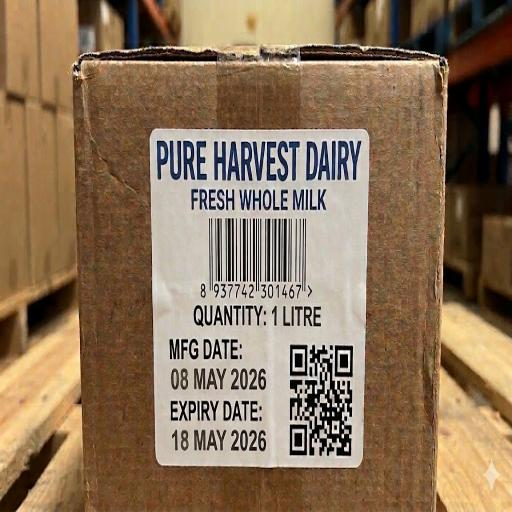barcoderotation: (195, 216, 314, 301)
expiry_daterotation: (167, 396, 269, 451)
labelrotation: (152, 134, 365, 464)
mfg_daterotation: (166, 334, 270, 390)
qr_coderotation: (286, 338, 355, 460)
quantityrotation: (192, 303, 324, 325)
